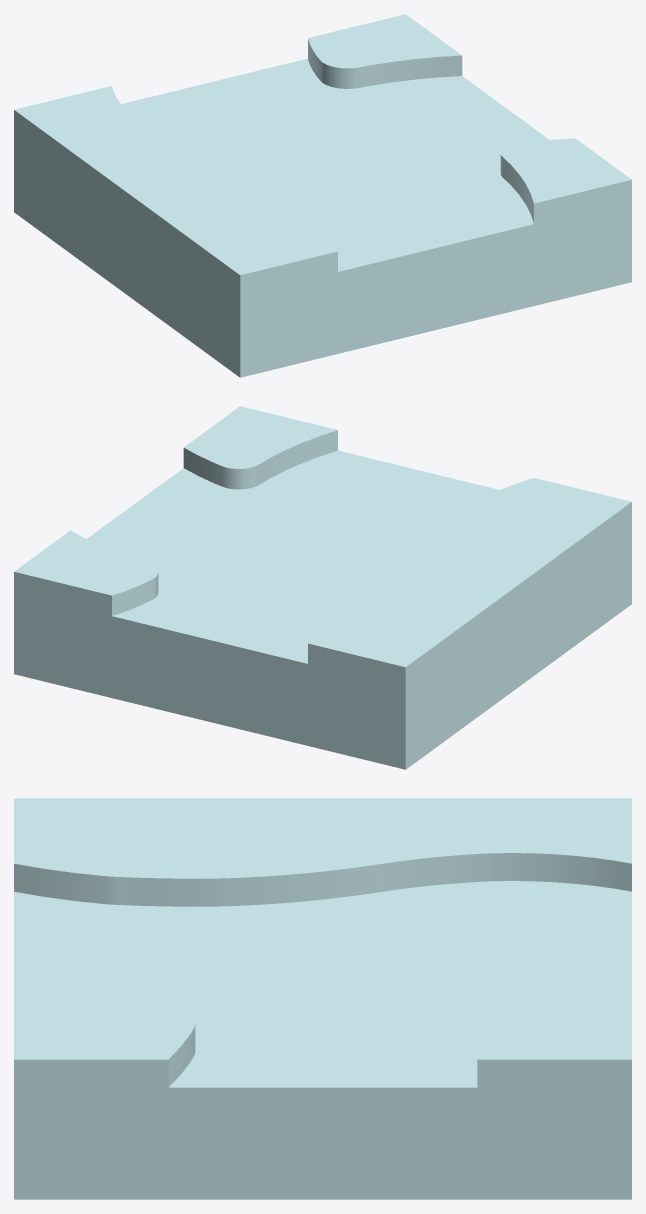
Rendered from ground_dirtRiverT.fbx.
3 views of the same model, one above another, from view 1: azimuth 30°, elevation 25°; view 2: azimuth 150°, elevation 25°; view 3: azimuth 270°, elevation 25° (orthographic). The views are drawn at different scales.
Parts seen in each view (by area): view 1: ground_dirtRiverT; view 2: ground_dirtRiverT; view 3: ground_dirtRiverT.
Boxes of the visible parts, left/top/right/bottom form: ground_dirtRiverT: left=14, top=14, right=631, bottom=377; ground_dirtRiverT: left=14, top=406, right=631, bottom=769; ground_dirtRiverT: left=14, top=798, right=631, bottom=1199.
Bounding box in the file's own units: 300 × 75 × 300.
